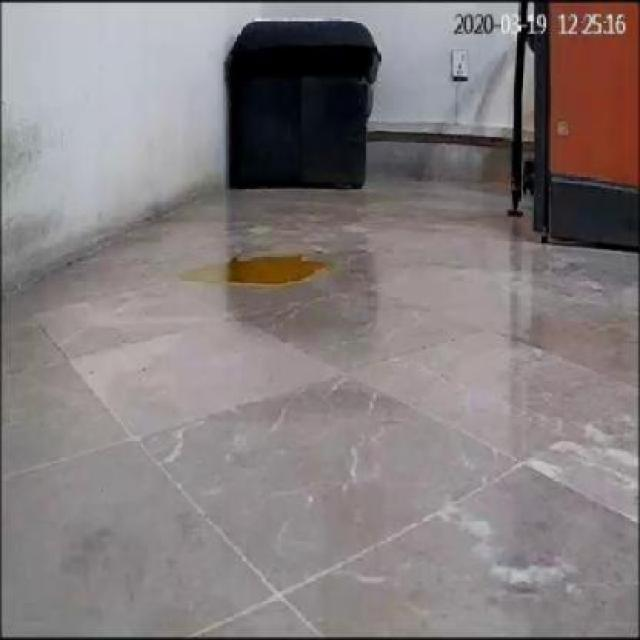spillage: (180, 256, 328, 289)
